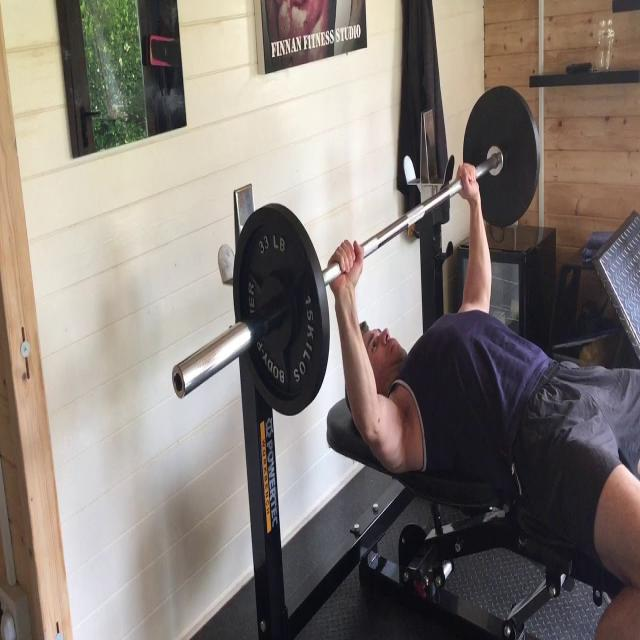bench: (151, 69, 640, 639)
